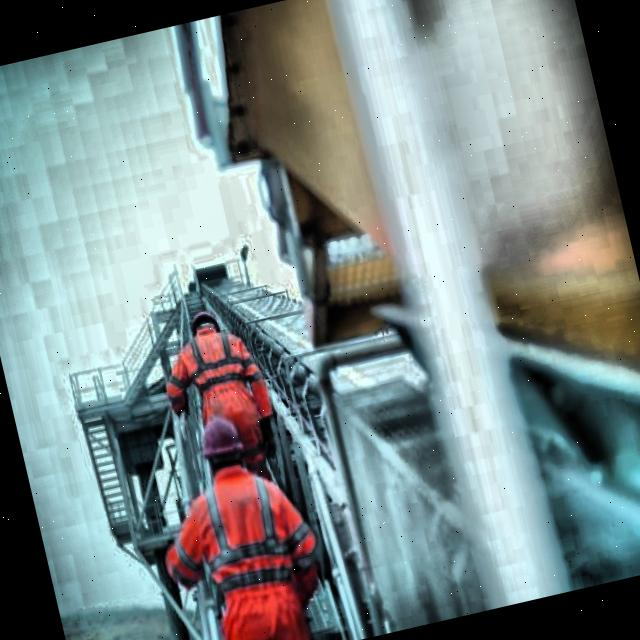helmet: (193, 404, 250, 486), (186, 301, 225, 343)
